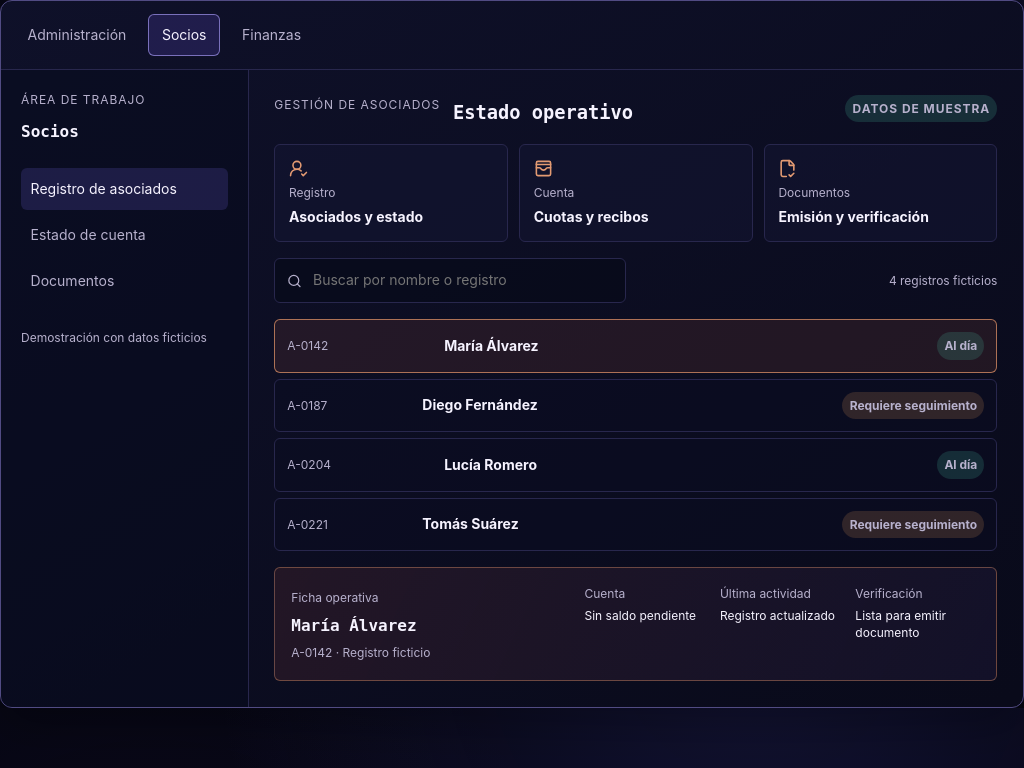
it: MemberOperationsDemo › filters fictional members and updates the selected operational record
The width and height of the screenshot is (1024, 768).
Type "Diego" into the field named "Buscar asociado ficticio" at point(462, 280), box [311,268,613,293]
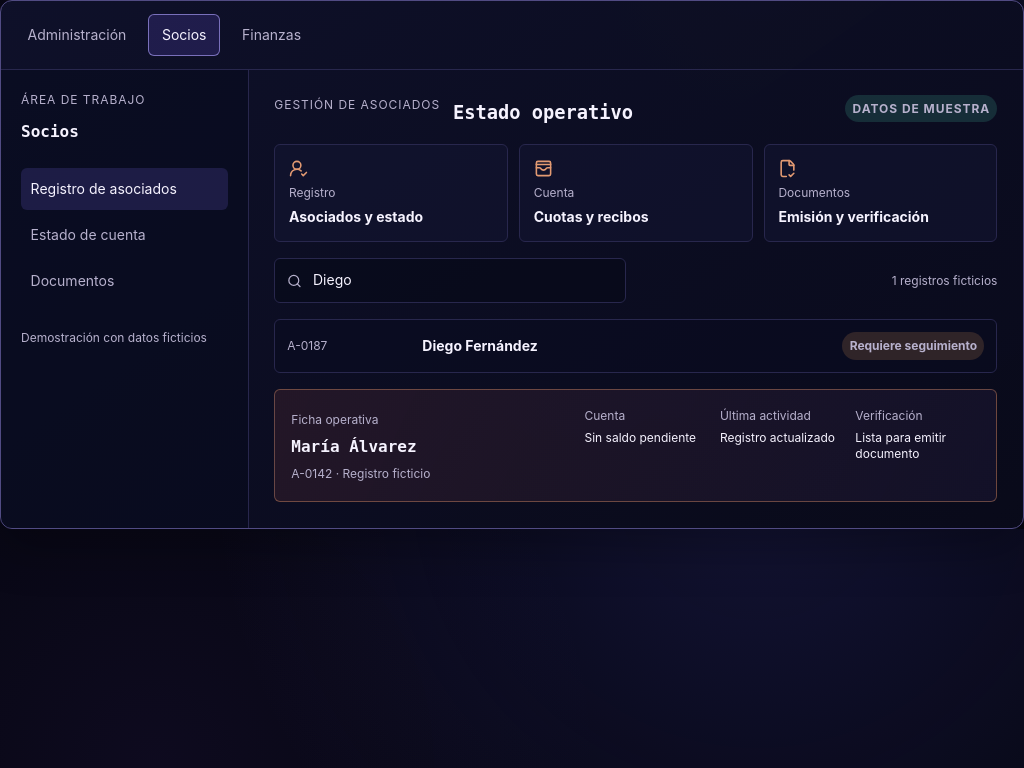
Click the button "A-0187 Diego Fernández Requiere seguimiento" at point(307, 346), box [274,319,997,372]
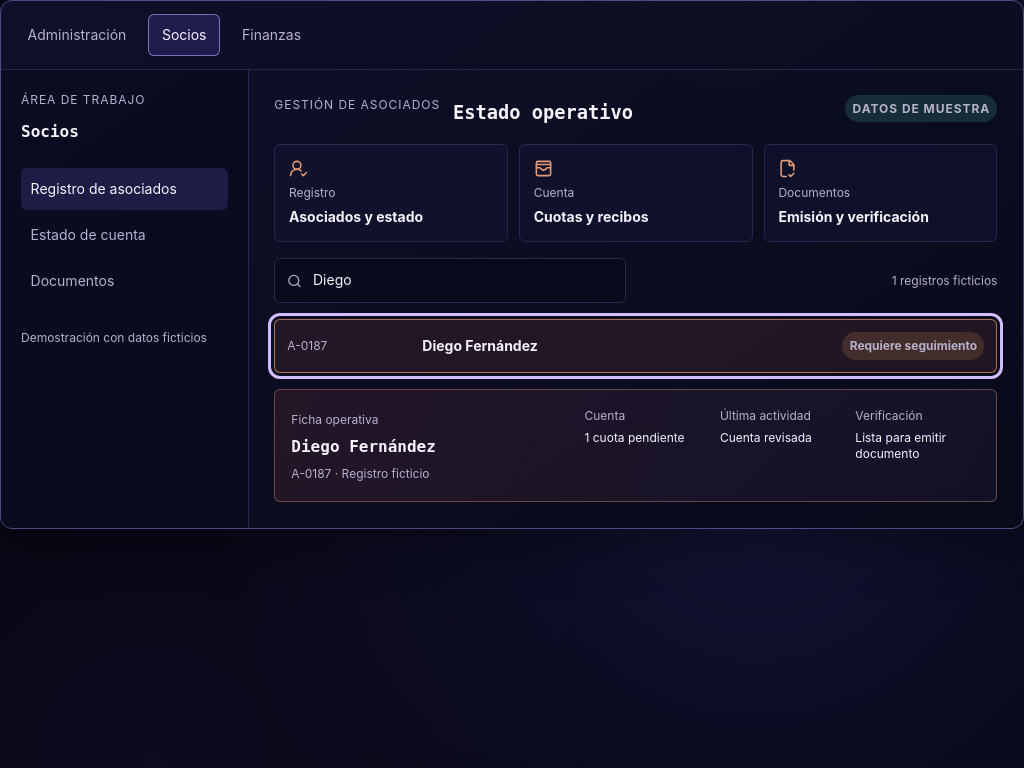
Now the heading "Diego Fernández" is shown, box [291,437,436,456]
Now the text "1 cuota pendiente" is shown, box [584,430,685,444]
